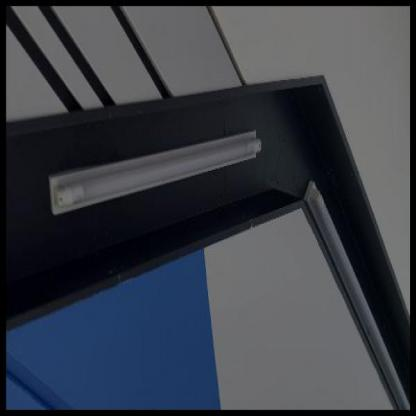light_off: (293, 165, 410, 410), (37, 105, 267, 220)
